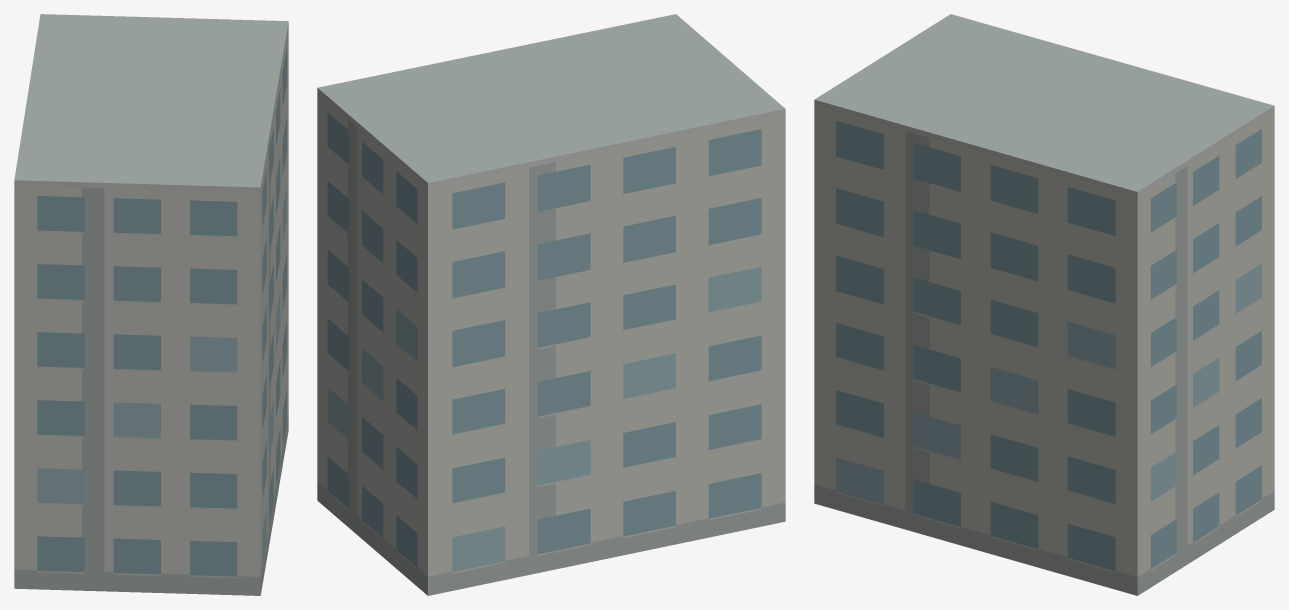
The model's file is survey-upis-32704292.glb.
The picture shows the model from 3 angles, left to right: view 1: azimuth 30°, elevation 25°; view 2: azimuth 150°, elevation 25°; view 3: azimuth 270°, elevation 25°; orthographic projection. The views are drawn at different scales.
Visible parts, largest first — view 1: survey-upis-32704292.tmp; view 2: survey-upis-32704292.tmp; view 3: survey-upis-32704292.tmp.
Part boxes in pixels (left/top/right/bottom): survey-upis-32704292.tmp: left=14, top=14, right=288, bottom=595; survey-upis-32704292.tmp: left=317, top=14, right=785, bottom=595; survey-upis-32704292.tmp: left=814, top=14, right=1274, bottom=595.
Size of the model in its own units: 17.3 by 18.3 by 18.91.
